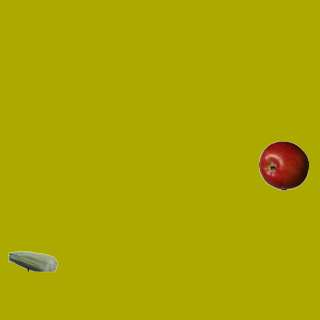Apple Braeburn: (258, 140, 308, 190)
Corn Husk: (7, 236, 57, 286)
